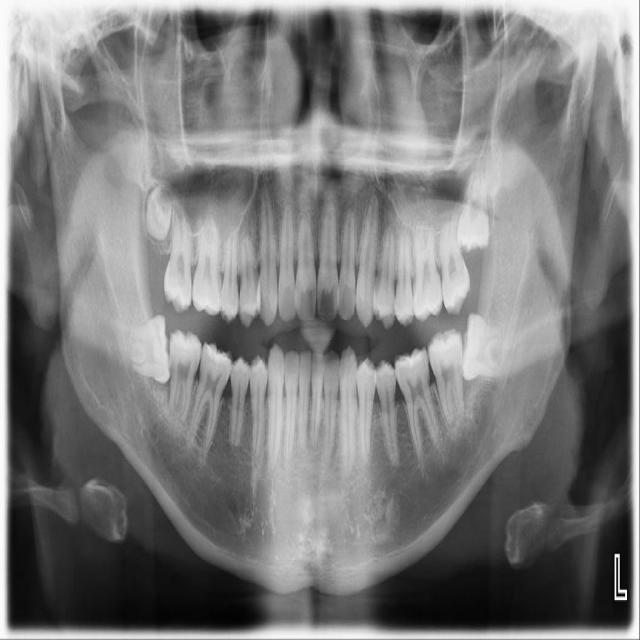impacted tooth: (461, 311, 517, 379), (113, 315, 168, 383)
